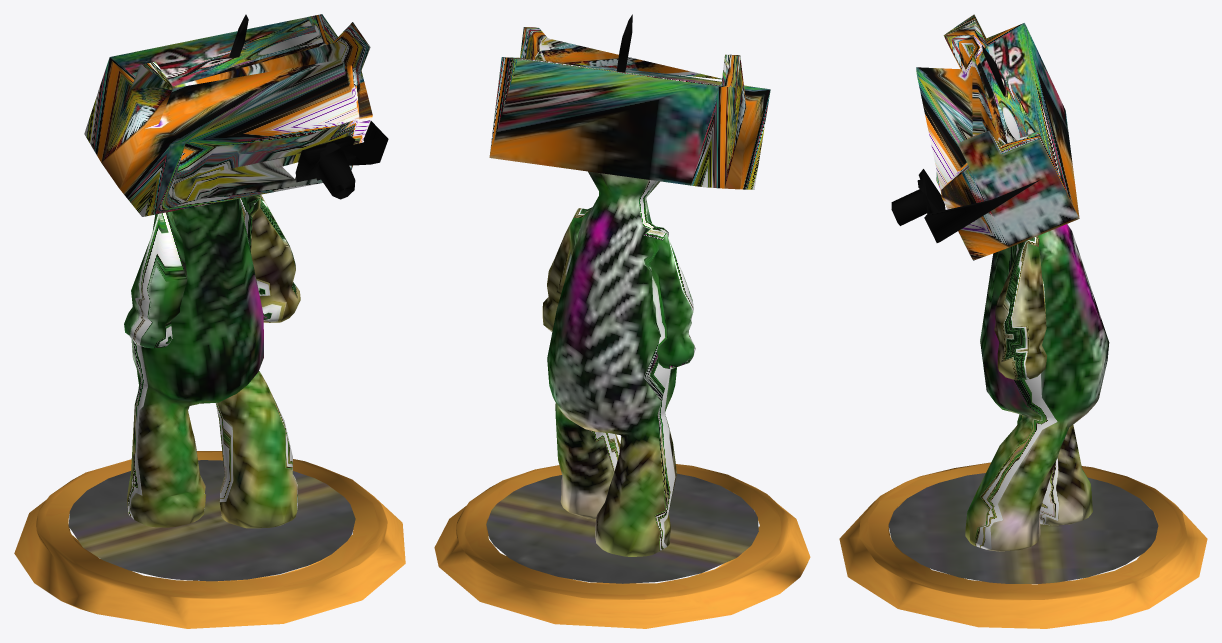
3 views of the same model, side by side, from view 1: azimuth 30°, elevation 25°; view 2: azimuth 150°, elevation 25°; view 3: azimuth 270°, elevation 25° (orthographic). The views are drawn at different scales.
Bounding box in the file's own units: 1.44 × 2.2 × 1.43.
5 materials, 4 textured.
